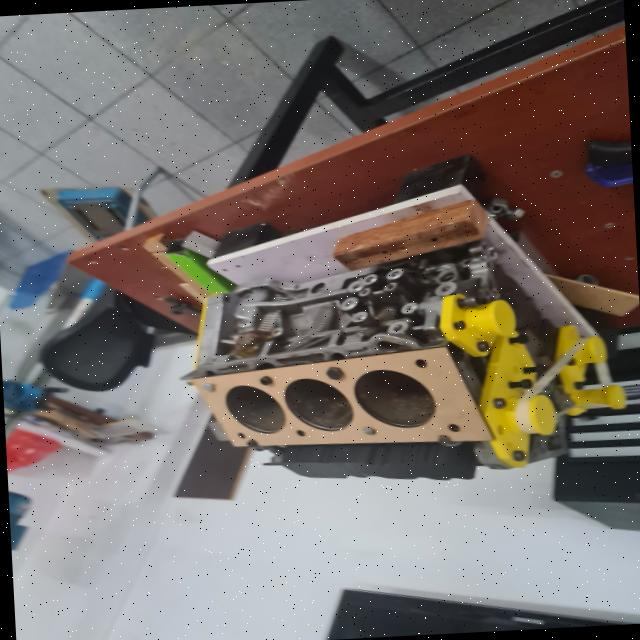tor_v1: (192, 346, 492, 446)
